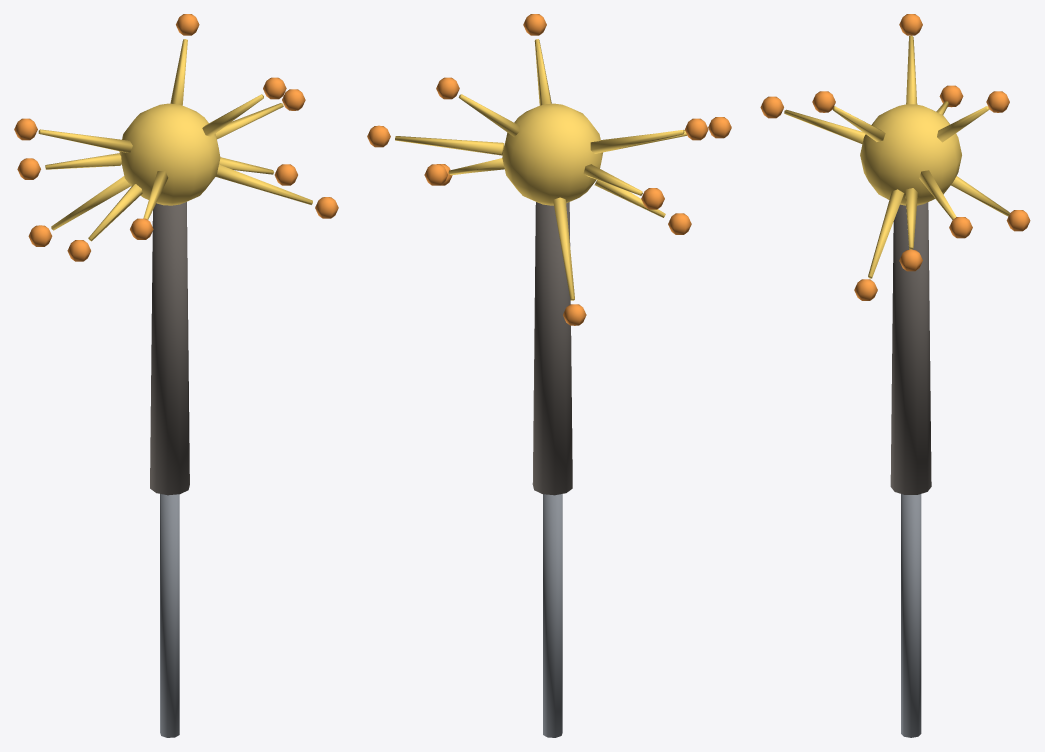
File: event-sparkler.glb
3 views of the same model, side by side, from view 1: azimuth 30°, elevation 25°; view 2: azimuth 150°, elevation 25°; view 3: azimuth 270°, elevation 25° (orthographic).
Parts seen in each view (by area): view 1: sparkler; view 2: sparkler; view 3: sparkler.
Boxes of the visible parts, x1,y1,x2,y2 form: sparkler: (14, 14, 338, 737); sparkler: (367, 14, 731, 737); sparkler: (760, 14, 1030, 737).
Bounding box in the file's own units: 0.2104 × 0.4357 × 0.1586.
